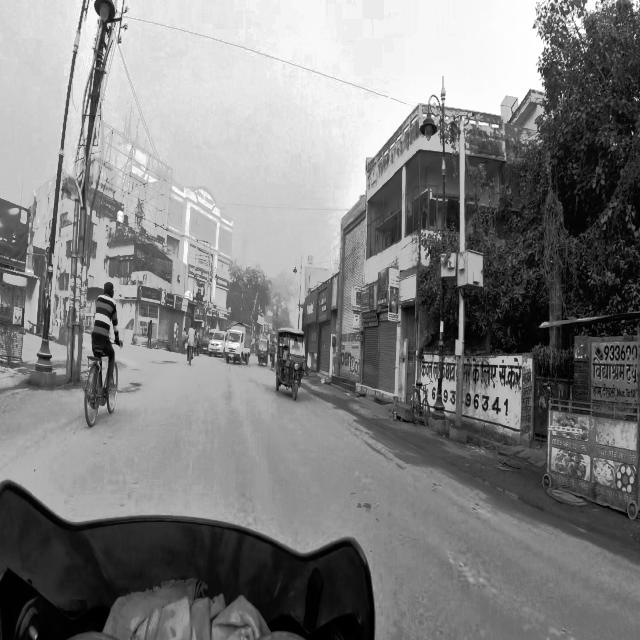Auto-Rickshaw: (257, 337, 269, 367)
Car: (208, 330, 228, 354)
LCV: (225, 321, 254, 366)
Toto: (270, 324, 312, 413)
